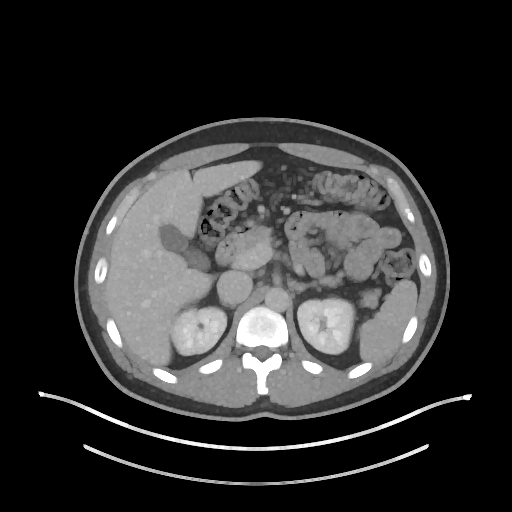Lesion: (193, 322, 208, 331)
